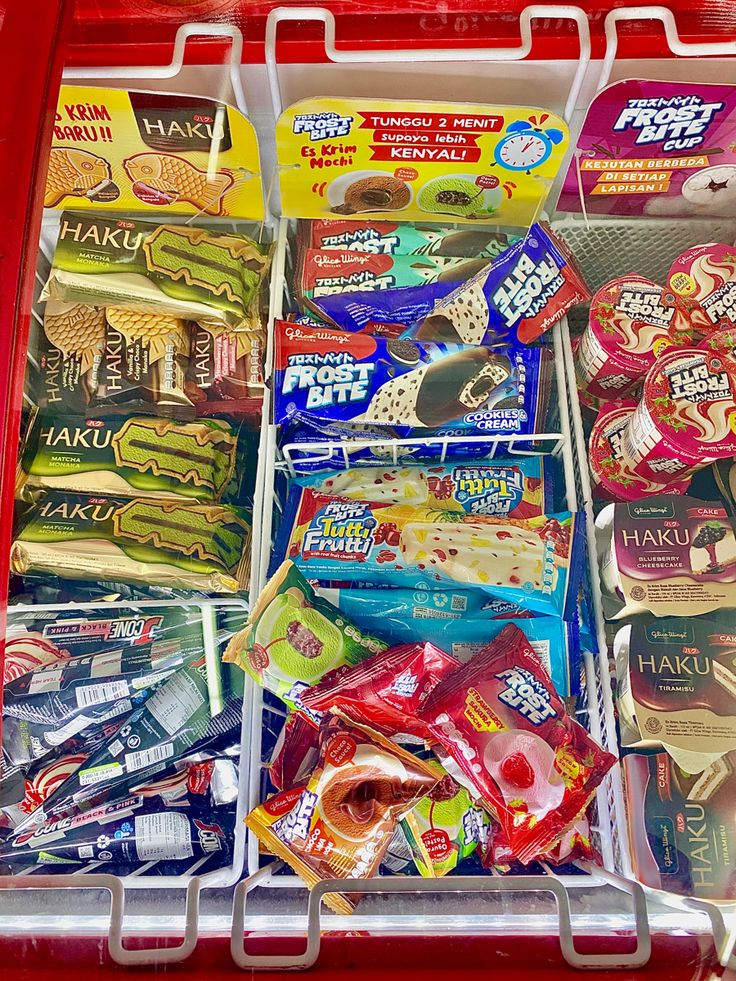Frost Bite: (270, 329, 529, 436), (409, 652, 598, 748)
Haku: (547, 497, 736, 593)
Tutti Fruitti: (241, 486, 430, 582)
